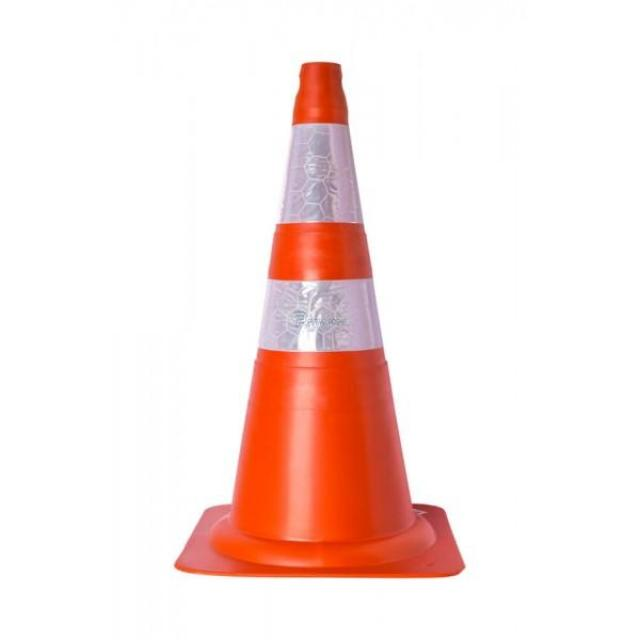cone: (218, 56, 441, 561)
